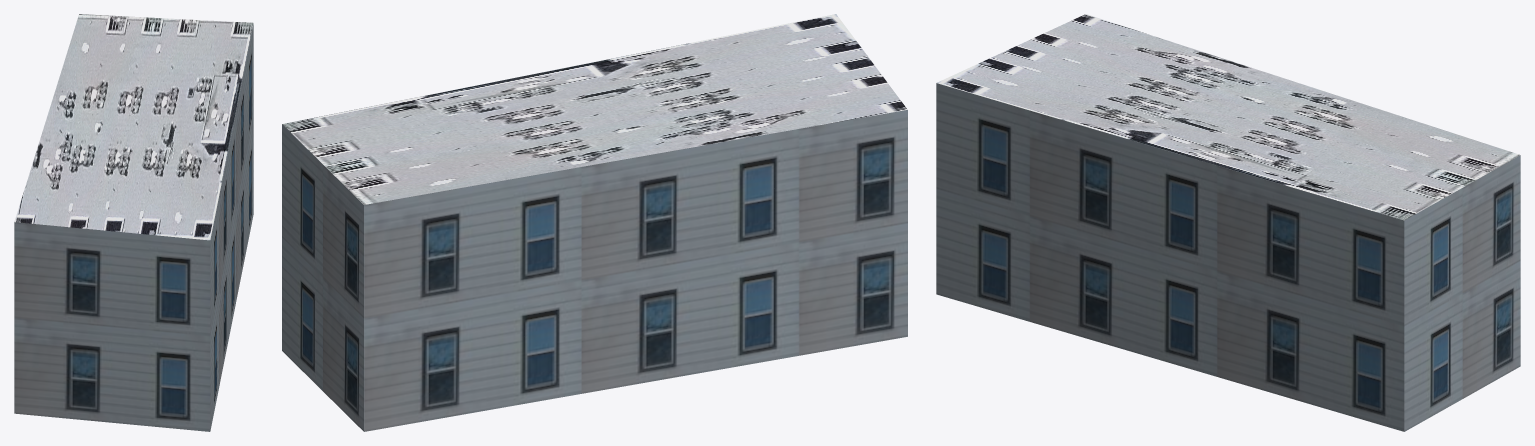
Rendered from ResTex__211.fbx.
3 renders of one model, left to right at view 1: azimuth 30°, elevation 25°; view 2: azimuth 150°, elevation 25°; view 3: azimuth 270°, elevation 25°, orthographic. The views are drawn at different scales.
Parts seen in each view (by area): view 1: CityEngineMaterial_18_m, CityEngineMaterial_2_m; view 2: CityEngineMaterial_18_m, CityEngineMaterial_2_m; view 3: CityEngineMaterial_18_m, CityEngineMaterial_2_m.
Boxes of the visible parts, x1,y1,x2,y2 form: CityEngineMaterial_18_m: [14, 24, 253, 431]; CityEngineMaterial_2_m: [14, 14, 253, 240]; CityEngineMaterial_18_m: [282, 110, 907, 431]; CityEngineMaterial_2_m: [282, 14, 907, 204]; CityEngineMaterial_18_m: [936, 83, 1520, 431]; CityEngineMaterial_2_m: [937, 14, 1520, 220].
Bounding box in the file's own units: 12.58 × 6 × 15.04.
2 materials, 2 textured.
